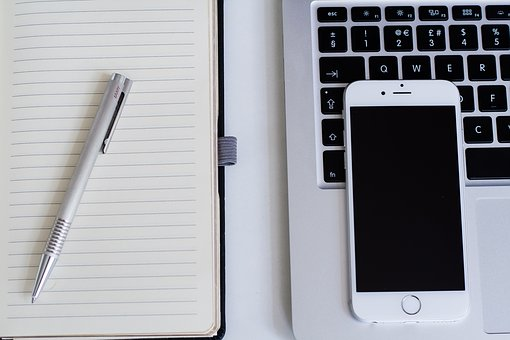mobile: (336, 72, 482, 324)
